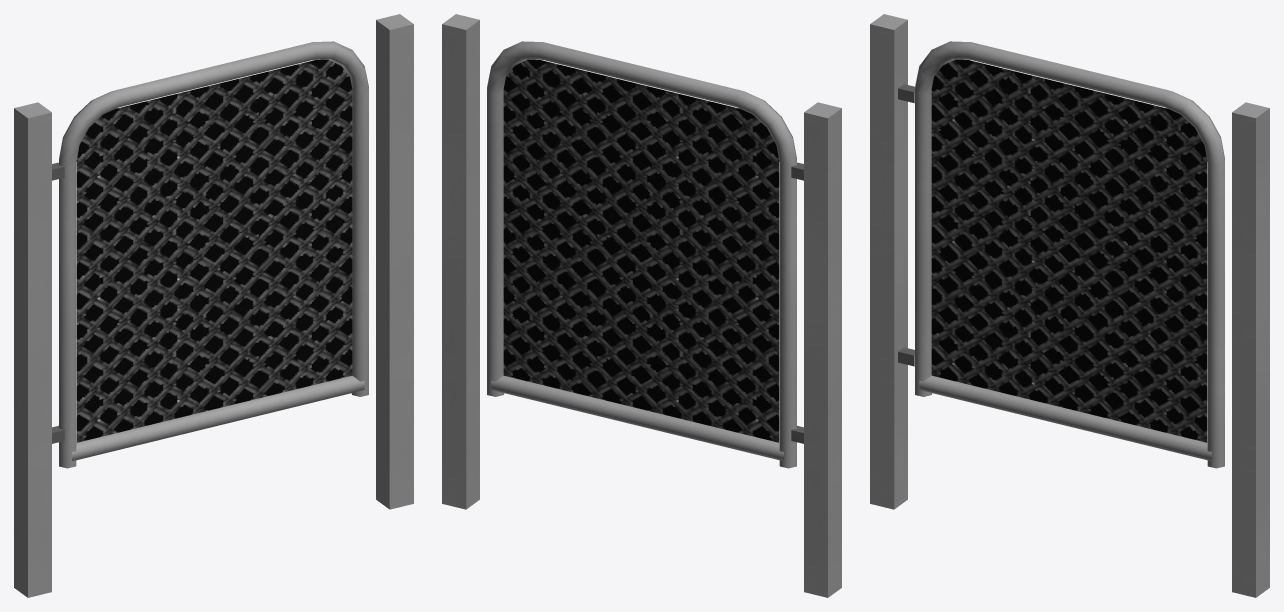
Rendered from fence-chainlink-gate-1m-cbj_LOD01.gltf.
3 renders of one model, left to right at view 1: azimuth 30°, elevation 25°; view 2: azimuth 150°, elevation 25°; view 3: azimuth 330°, elevation 25°, orthographic.
Visible parts, largest first — view 1: post01; view 2: post01; view 3: post01.
Boxes of the visible parts, x1,y1,x2,y2 form: post01: (14,14,413,597); post01: (442,14,841,597); post01: (870,14,1269,597).
Bounding box in the file's own units: 1.12 × 1.33 × 0.07.
